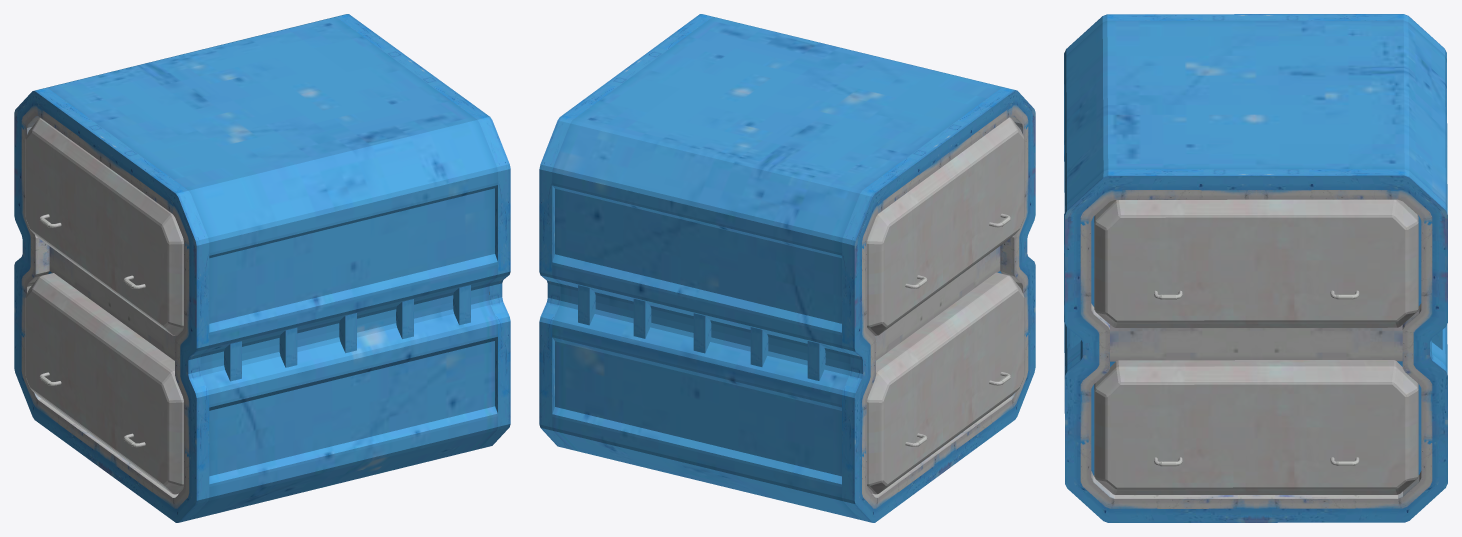
File: Demo_xiangzi.FBX
The picture shows the model from 3 angles, left to right: view 1: azimuth 30°, elevation 25°; view 2: azimuth 150°, elevation 25°; view 3: azimuth 270°, elevation 25°; orthographic projection. The views are drawn at different scales.
Parts seen in each view (by area): view 1: Demo_xiangzi; view 2: Demo_xiangzi; view 3: Demo_xiangzi.
Part boxes in pixels (bbox=[...]): Demo_xiangzi: bbox=[14, 14, 510, 522]; Demo_xiangzi: bbox=[539, 14, 1035, 522]; Demo_xiangzi: bbox=[1064, 14, 1447, 522].
Bounding box in the file's own units: 3.18 × 2.82 × 2.82.
